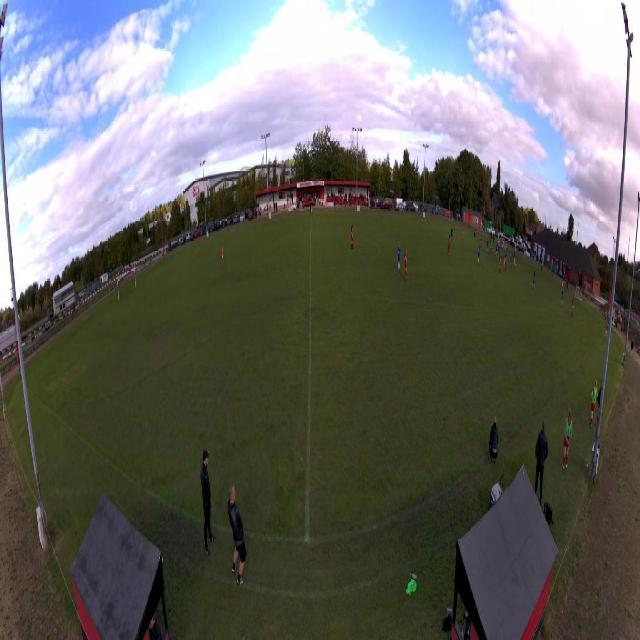ball: (502, 226, 503, 228)
player: (396, 243, 401, 271), (404, 250, 408, 279), (350, 225, 354, 252), (221, 245, 224, 267), (489, 241, 493, 257), (571, 298, 574, 319), (478, 244, 481, 265), (448, 235, 451, 255), (532, 271, 535, 290), (499, 255, 502, 274), (497, 243, 500, 259), (486, 238, 489, 253), (561, 287, 563, 306), (505, 254, 507, 272), (509, 251, 511, 268), (451, 226, 453, 243), (496, 241, 498, 257), (463, 227, 465, 242), (480, 235, 482, 249), (499, 242, 501, 256), (496, 243, 498, 254), (500, 237, 502, 248), (505, 248, 506, 265)
